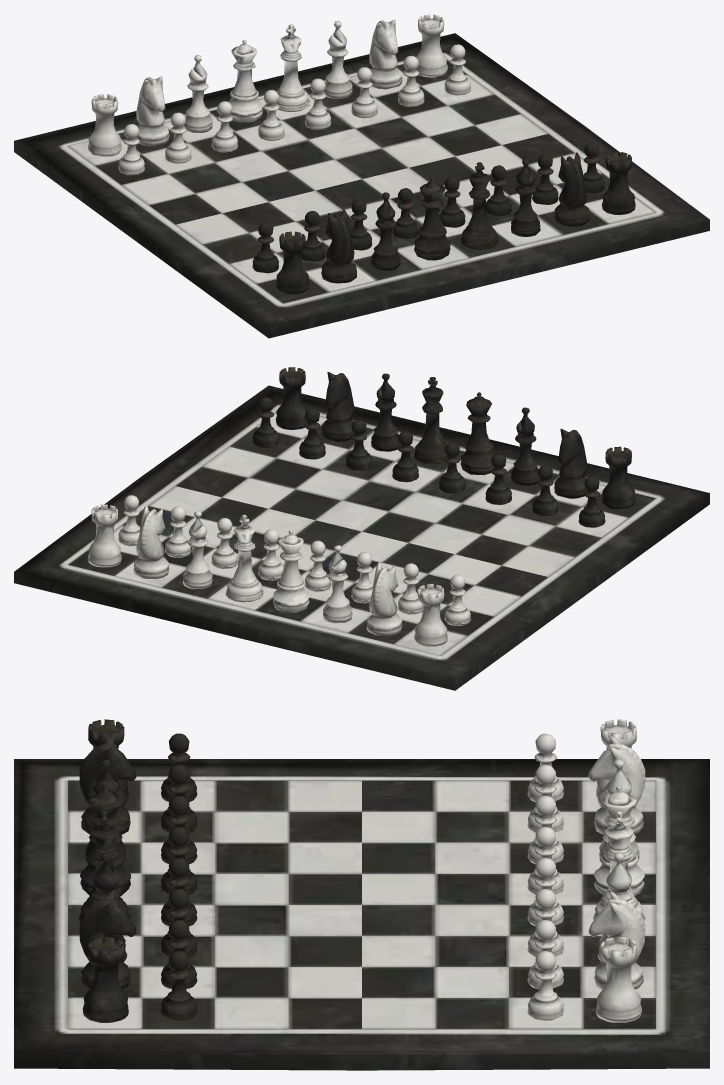
The model's file is chess.glb.
The picture shows the model from 3 angles, top to bottom: view 1: azimuth 30°, elevation 25°; view 2: azimuth 150°, elevation 25°; view 3: azimuth 270°, elevation 25°; orthographic projection. The views are drawn at different scales.
Parts seen in each view (by area): view 1: board, piece_queen_black, piece_knight_black_02, piece_knight_black_01, piece_queen_white, piece_knight_white_02, piece_knight_white_01, piece_king_black, piece_king_white, piece_rook_black_01, piece_rook_white_02, piece_rook_black_02 (+21 smaller); view 2: board, piece_queen_white, piece_knight_white_02, piece_knight_white_01, piece_queen_black, piece_knight_black_01, piece_knight_black_02, piece_king_white, piece_king_black, piece_rook_white_02, piece_rook_white_01, piece_rook_black_01 (+21 smaller); view 3: board, piece_rook_black_02, piece_rook_white_01, piece_knight_white_01, piece_knight_black_02, piece_knight_black_01, piece_knight_white_02, piece_queen_black, piece_queen_white, piece_pawn_black_08, piece_pawn_white_01, piece_king_black (+21 smaller).
Part boxes in pixels (left/top/right/bottom): board: left=14, top=33, right=709, bottom=338; piece_queen_black: left=414, top=177, right=451, bottom=260; piece_knight_black_02: left=554, top=152, right=589, bottom=226; piece_knight_black_01: left=321, top=209, right=356, bottom=283; piece_queen_white: left=228, top=40, right=262, bottom=122; piece_knight_white_02: left=136, top=76, right=169, bottom=146; piece_knight_white_01: left=369, top=19, right=402, bottom=89; piece_king_black: left=460, top=162, right=498, bottom=249; piece_king_white: left=276, top=24, right=309, bottom=111; piece_rook_black_01: left=275, top=231, right=309, bottom=294; piece_rook_white_02: left=88, top=94, right=121, bottom=156; piece_rook_black_02: left=602, top=152, right=635, bottom=214; board: left=14, top=385, right=709, bottom=690; piece_queen_white: left=273, top=530, right=309, bottom=612; piece_knight_white_02: left=366, top=562, right=402, bottom=635; piece_knight_white_01: left=133, top=505, right=169, bottom=578; piece_queen_black: left=460, top=392, right=495, bottom=474; piece_knight_black_01: left=554, top=428, right=587, bottom=498; piece_knight_black_02: left=321, top=372, right=354, bottom=441; piece_king_white: left=225, top=514, right=263, bottom=602; piece_king_black: left=414, top=377, right=447, bottom=463; piece_rook_white_02: left=414, top=584, right=447, bottom=646; piece_rook_white_01: left=88, top=504, right=121, bottom=567; piece_rook_black_01: left=602, top=446, right=635, bottom=509; board: left=14, top=759, right=709, bottom=1070; piece_rook_black_02: left=82, top=937, right=128, bottom=1022; piece_rook_white_01: left=596, top=937, right=641, bottom=1022; piece_knight_white_01: left=588, top=891, right=645, bottom=989; piece_knight_black_02: left=79, top=891, right=136, bottom=989; piece_knight_black_01: left=79, top=736, right=136, bottom=834; piece_knight_white_02: left=588, top=736, right=645, bottom=834; piece_queen_black: left=80, top=785, right=130, bottom=896; piece_queen_white: left=593, top=785, right=644, bottom=895; piece_pawn_black_08: left=161, top=951, right=197, bottom=1020; piece_pawn_white_01: left=527, top=951, right=563, bottom=1020; piece_king_black: left=78, top=811, right=130, bottom=922.
Bounding box in the file's own units: 0.5507 × 0.1102 × 0.5482.
Materials: 3 (3 with a texture image).
